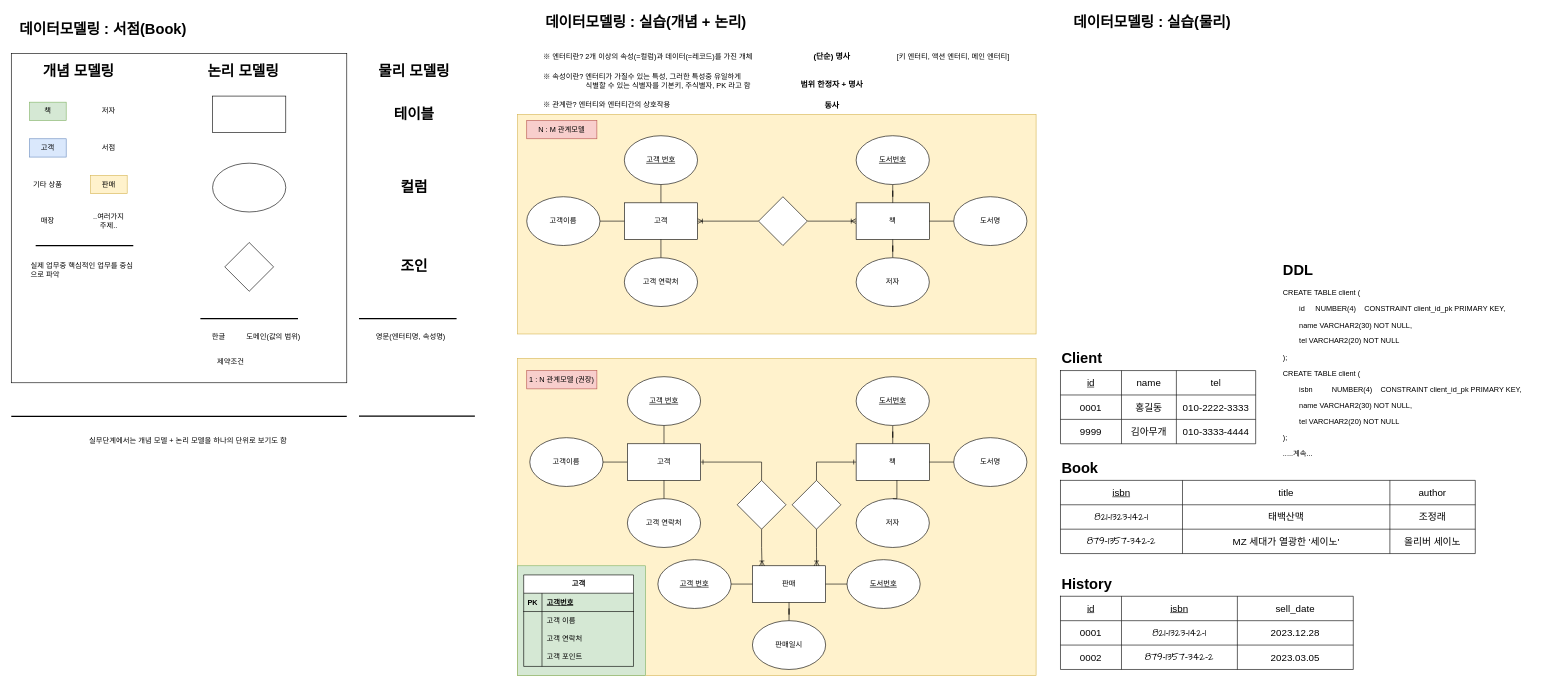
This 1565x686 diagram has some shape labels left out. The shapes that lost their labels are listed below. From the top down, each one's centre as x and y in pixels, then its label:
[249,114]: 객체 (ENTITY)
[249,187]: 속성 (ATTRIBUTE)
[782,221]: 판매한다 판매되어진다
[249,266]: 관계 (RELATION)
[761,504]: 구매한다
[816,504]: 판매한다
